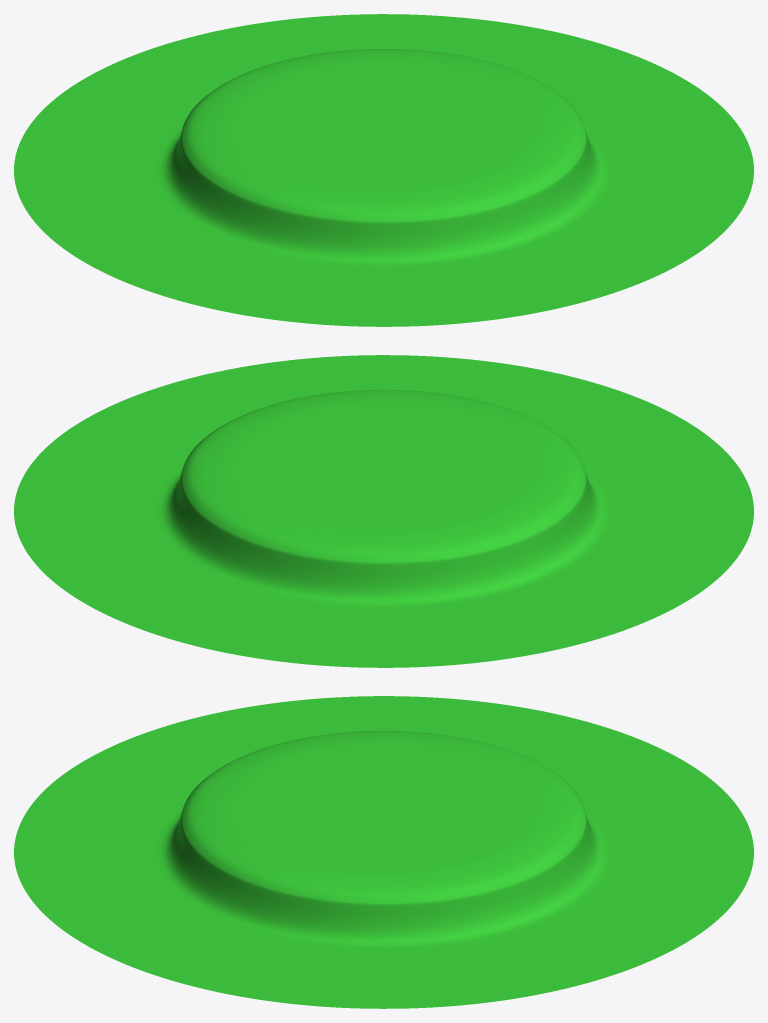
Rendered from island.fbx.
3 views of the same model, one above another, from view 1: azimuth 30°, elevation 25°; view 2: azimuth 150°, elevation 25°; view 3: azimuth 270°, elevation 25° (orthographic).
Parts seen in each view (by area): view 1: island; view 2: island; view 3: island.
Boxes of the visible parts, <box> form: island: <box>14,14,753,326</box>; island: <box>14,355,753,667</box>; island: <box>14,696,753,1008</box>.
Size of the model in its own units: 16605 by 1105 by 16605.
